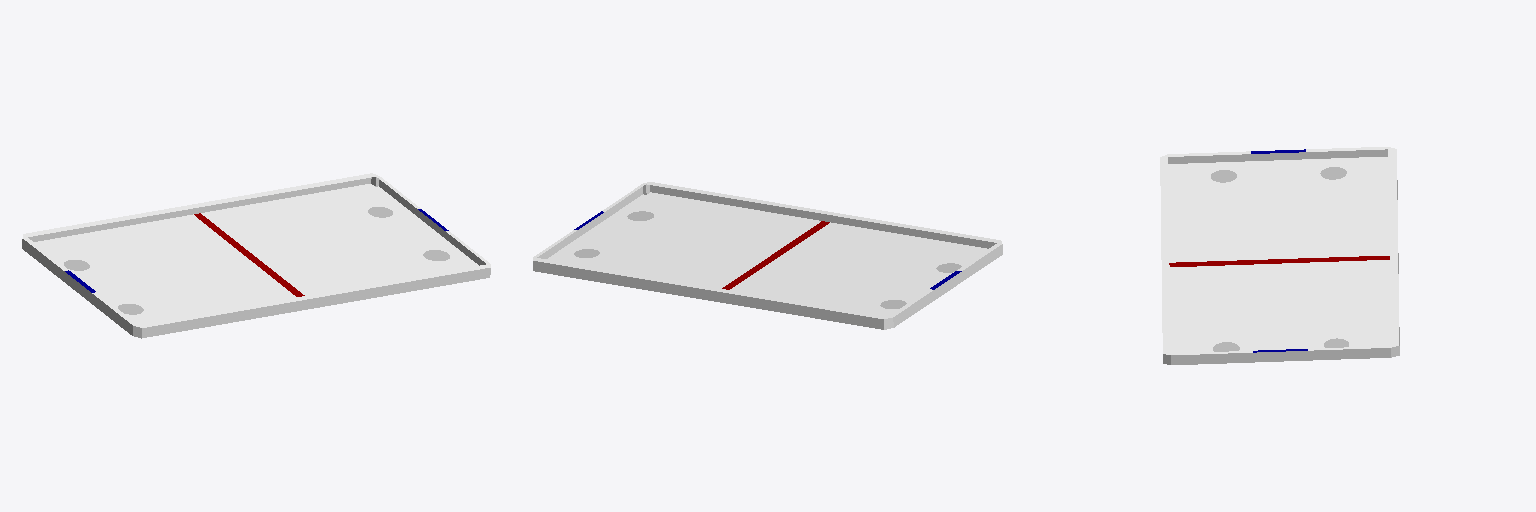
Rendered from table5.obj.
3 views of the same model, side by side, from view 1: azimuth 30°, elevation 25°; view 2: azimuth 150°, elevation 25°; view 3: azimuth 270°, elevation 25° (orthographic).
Visible parts, largest first — view 1: Cube; view 2: Cube; view 3: Cube.
Boxes of the visible parts, x1,y1,x2,y2 form: Cube: [22, 173, 490, 338]; Cube: [533, 182, 1002, 329]; Cube: [1160, 147, 1399, 364].
Size of the model in its own units: 158 by 18.34 by 90.86.